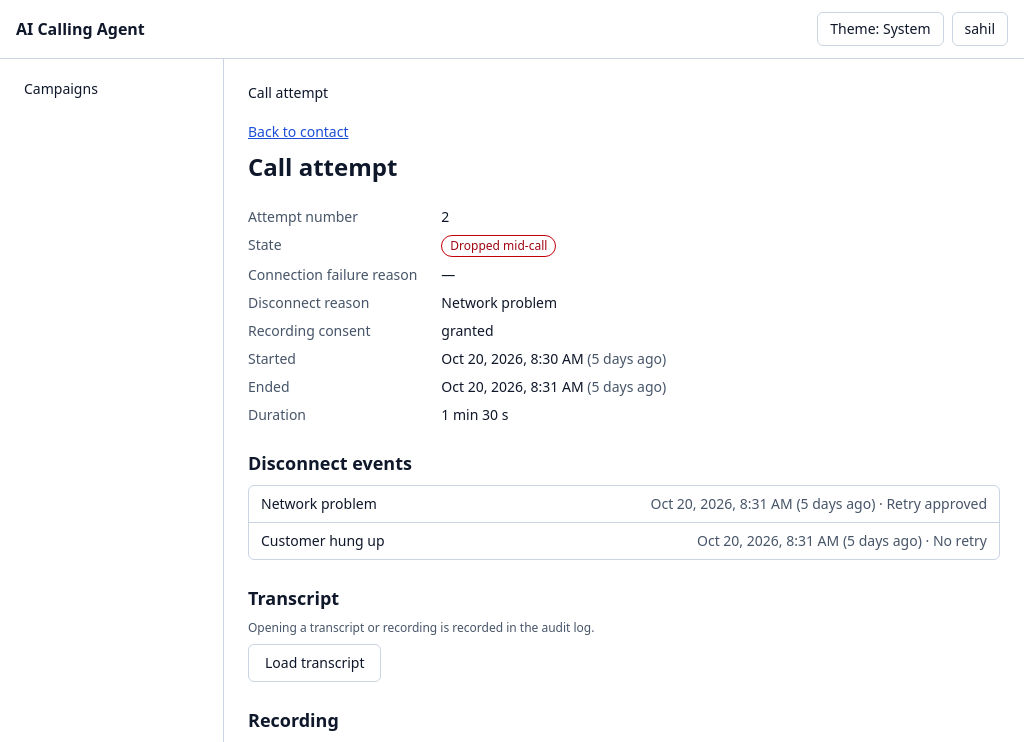
Test: transcript › a 404 says there is no transcript and removes the button
This screenshot has width=1024, height=742.
Step 1. Click the button "Load transcript" → x=315, y=663, box [248,644,382,682]
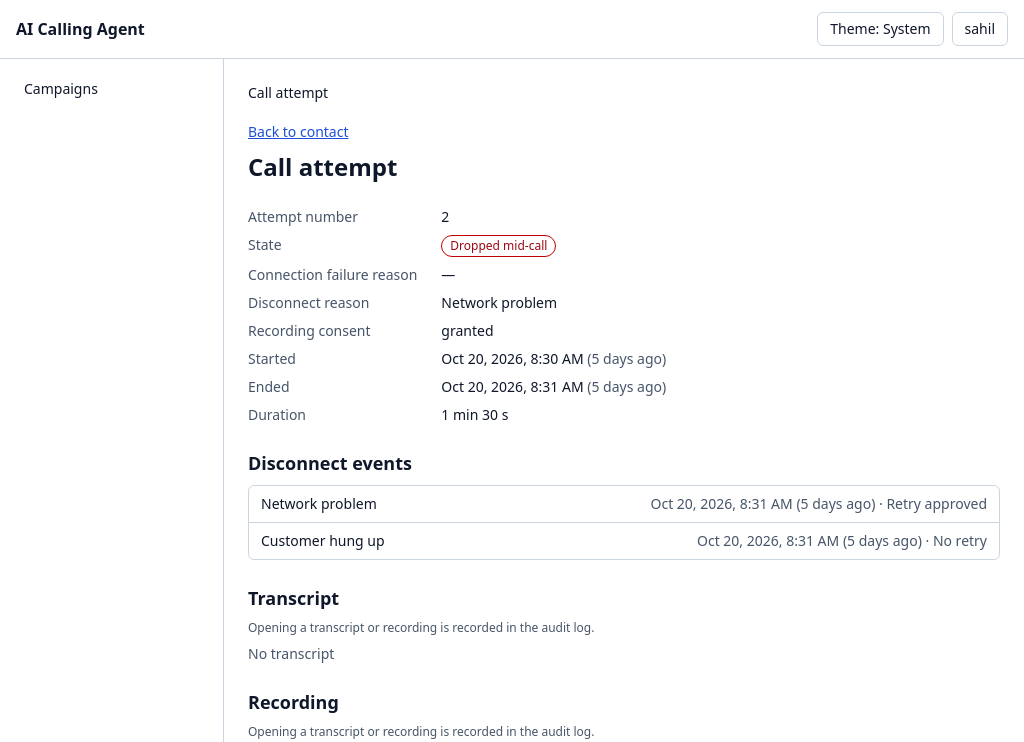
Expected: the text "No transcript" is shown, [248,644,334,663]
Expected: the button "Load transcript" is gone
